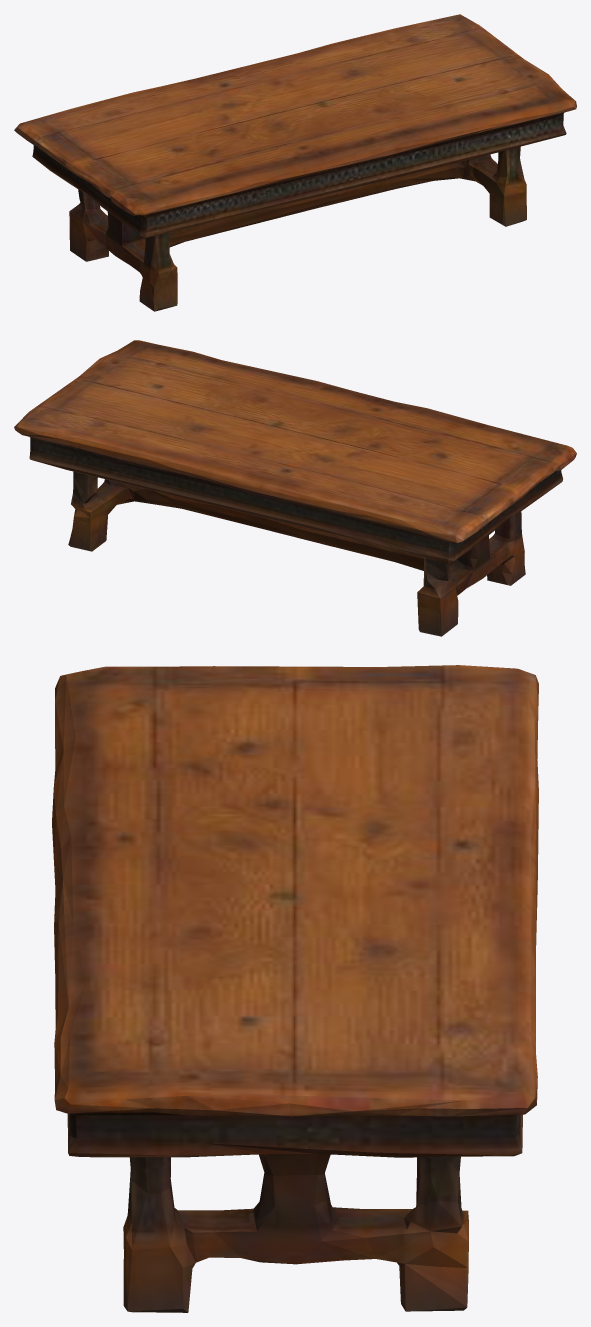
The model's file is table_long_wood_lod0.glb.
3 renders of one model, top to bottom at view 1: azimuth 30°, elevation 25°; view 2: azimuth 150°, elevation 25°; view 3: azimuth 270°, elevation 25°, orthographic. The views are drawn at different scales.
Parts seen in each view (by area): view 1: table_long_wood_lod0; view 2: table_long_wood_lod0; view 3: table_long_wood_lod0.
Part boxes in pixels (x1,y1,x2,y2): table_long_wood_lod0: (14, 14, 576, 311); table_long_wood_lod0: (14, 340, 576, 636); table_long_wood_lod0: (52, 665, 538, 1312).
Size of the model in its own units: 2.4 by 0.656 by 1.12.
1 material, 1 textured.
